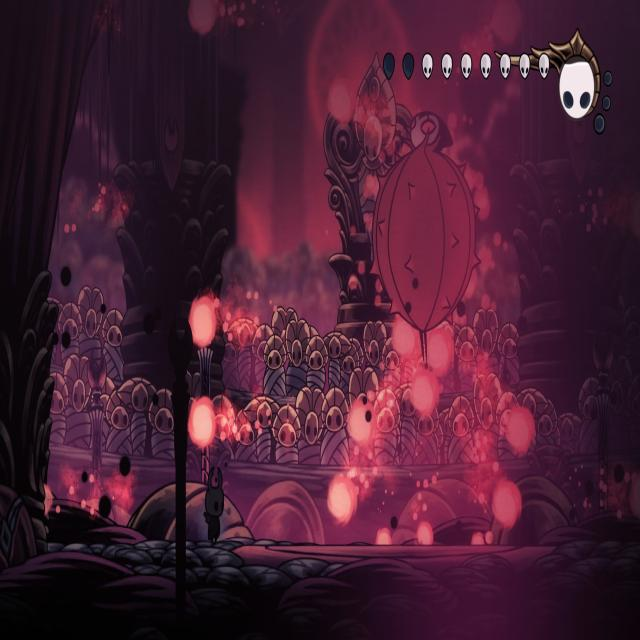Player: (200, 460, 230, 545)
Pufferfish: (370, 108, 485, 372)
Tiny Fireballs: (491, 480, 521, 530), (506, 405, 535, 456), (328, 476, 358, 524), (188, 297, 216, 348), (187, 398, 214, 450), (410, 369, 439, 417), (427, 328, 454, 378), (328, 80, 354, 126), (347, 401, 372, 446), (188, 0, 219, 36), (417, 522, 432, 545), (376, 528, 392, 546)
